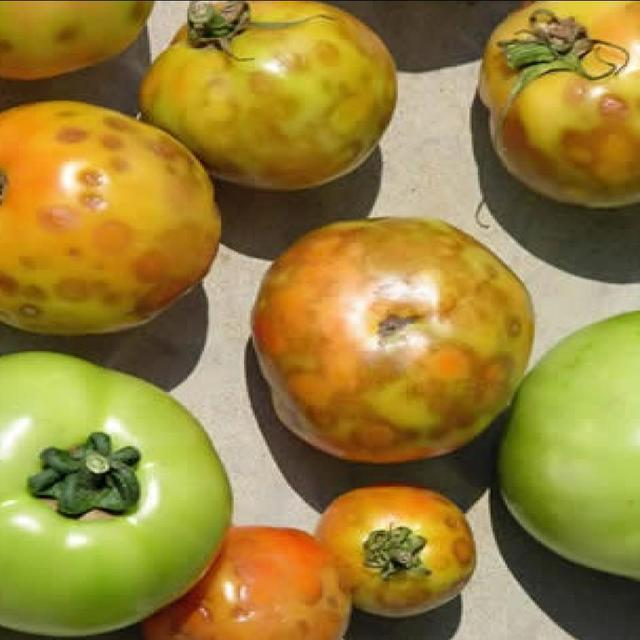Spotted wilt Virus Fruit: (0, 0, 361, 427)
